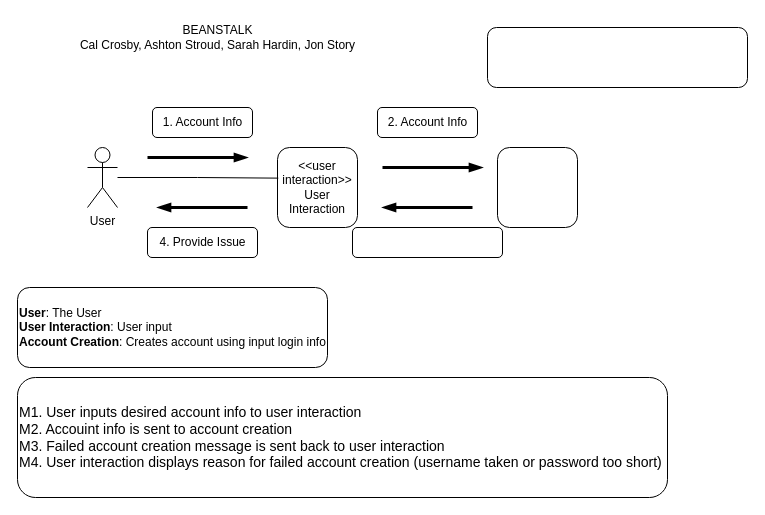
Some shapes in this 765 by 515 pixel diagram are drawn without their labels. The shapes that lost their labels are listed below. From the top down, each one's centre as x and y in pixels, then its label:
At point (617, 57): "Login Interaction Diagram".
At point (537, 187): "<<entity>> Account Creation".
At point (427, 242): "3. Unsuccessful Account".
